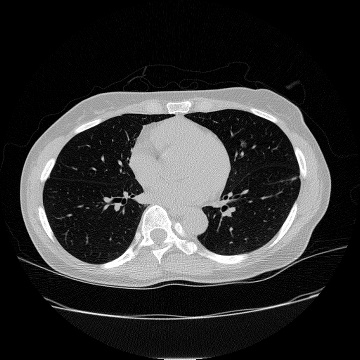PN: (240, 141, 246, 147)
